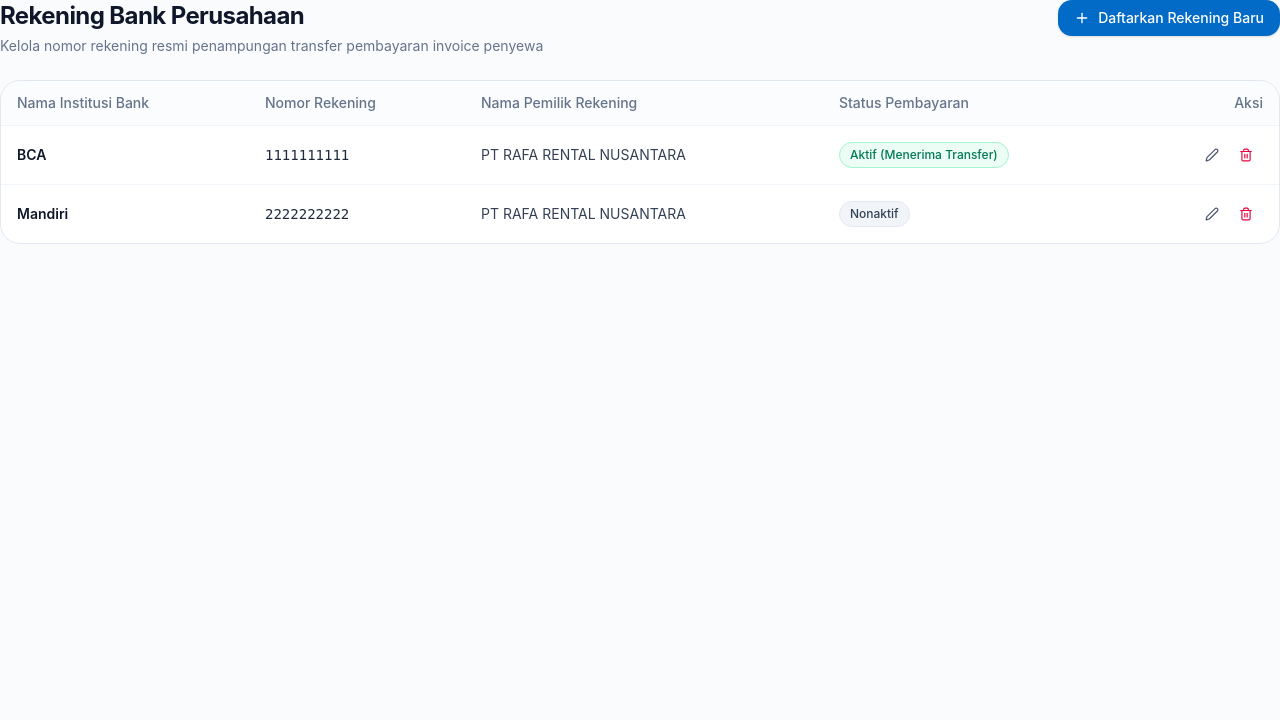
Admin Bank Accounts UI › surfaces the business-rule message when account is in use
Expected: the text "BCA" is shown, [1,125,249,184]
Click the button named "Hapus rekening BCA".
click(1246, 154)  # box [1229,142,1263,168]
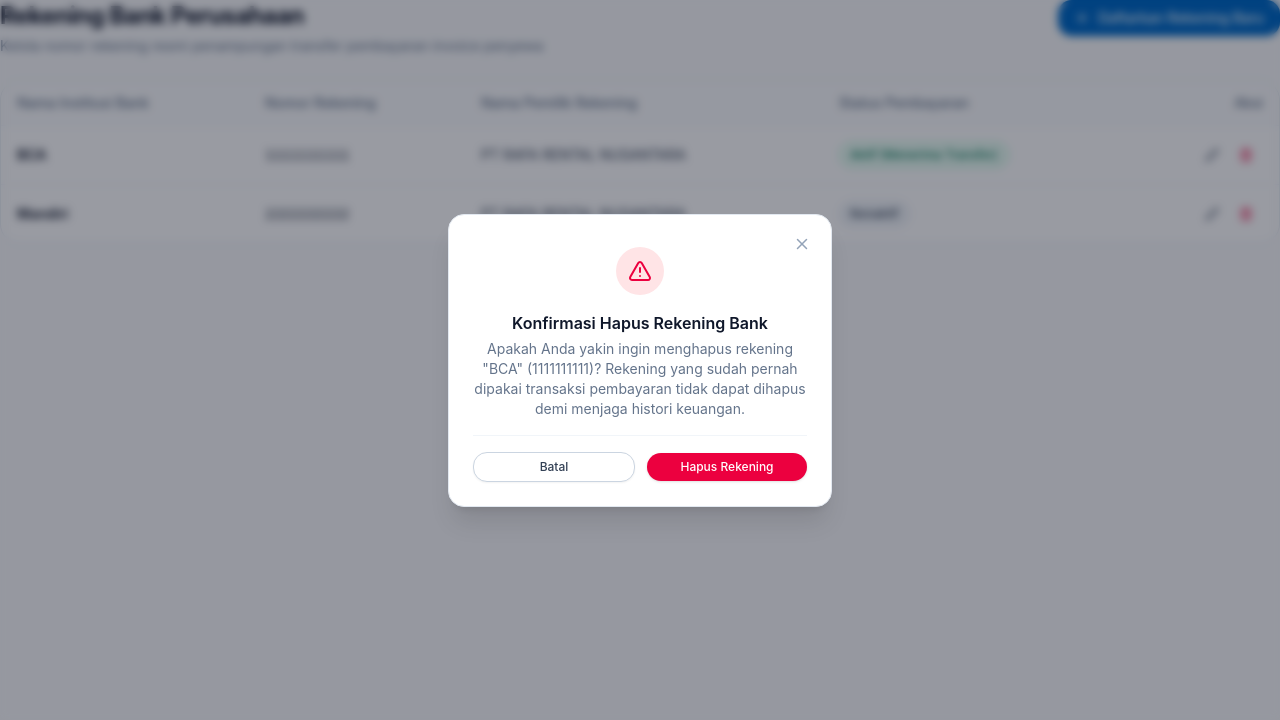
Click the button "Hapus Rekening".
click(727, 466)  # box [647,452,807,480]
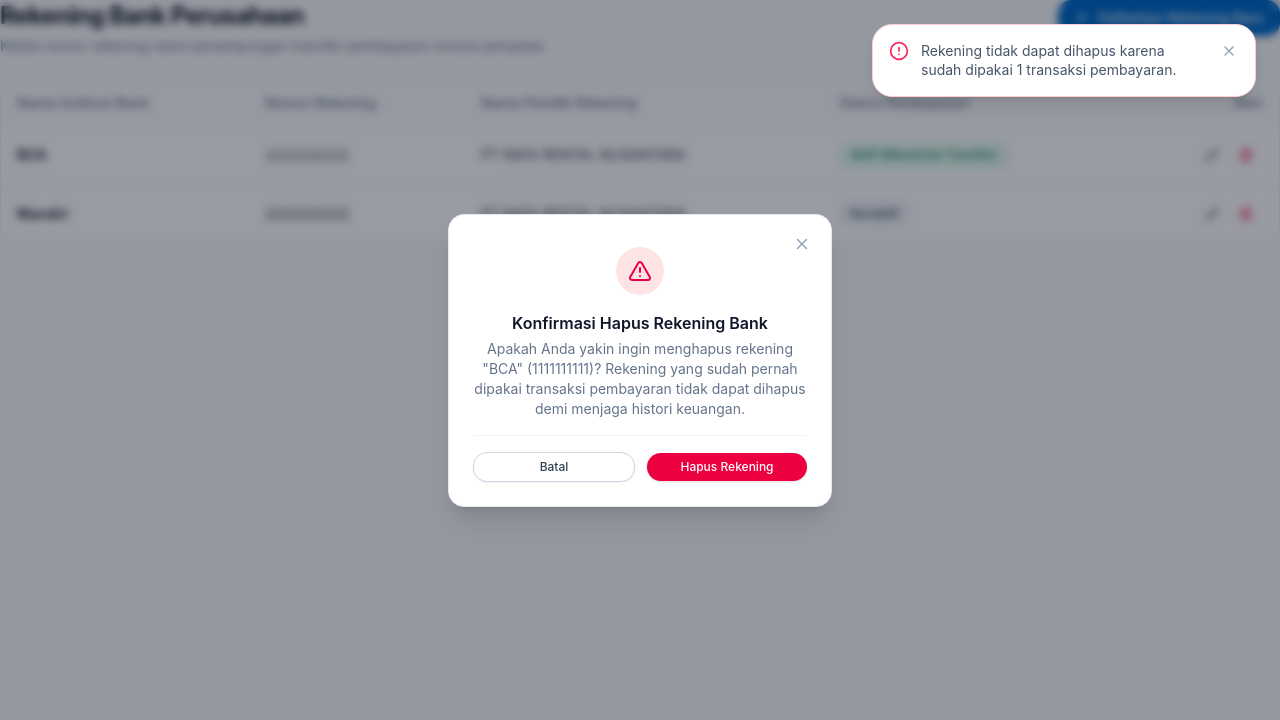
Expected: the text "Rekening tidak dapat dihapus karena sudah dipakai 1 transaksi pembayaran." is shown, [921,41,1207,80]
